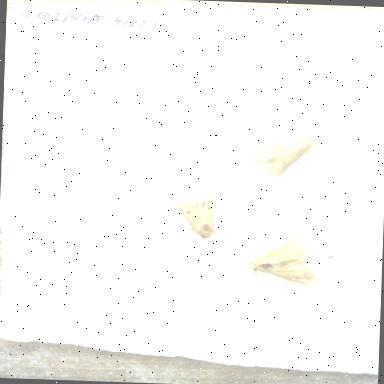abw: (234, 227, 330, 293), (244, 122, 327, 180), (170, 188, 234, 252)
